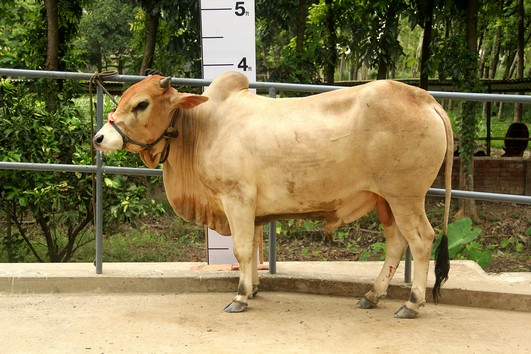cow: (87, 66, 460, 332)
